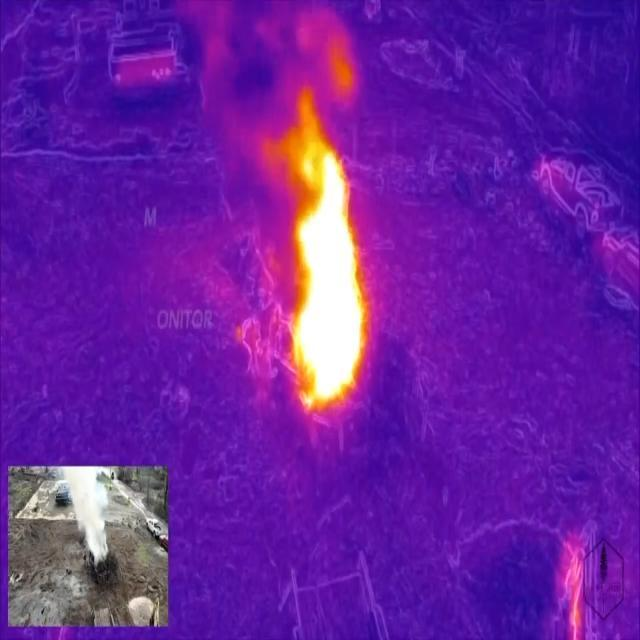fire: (264, 92, 373, 416)
